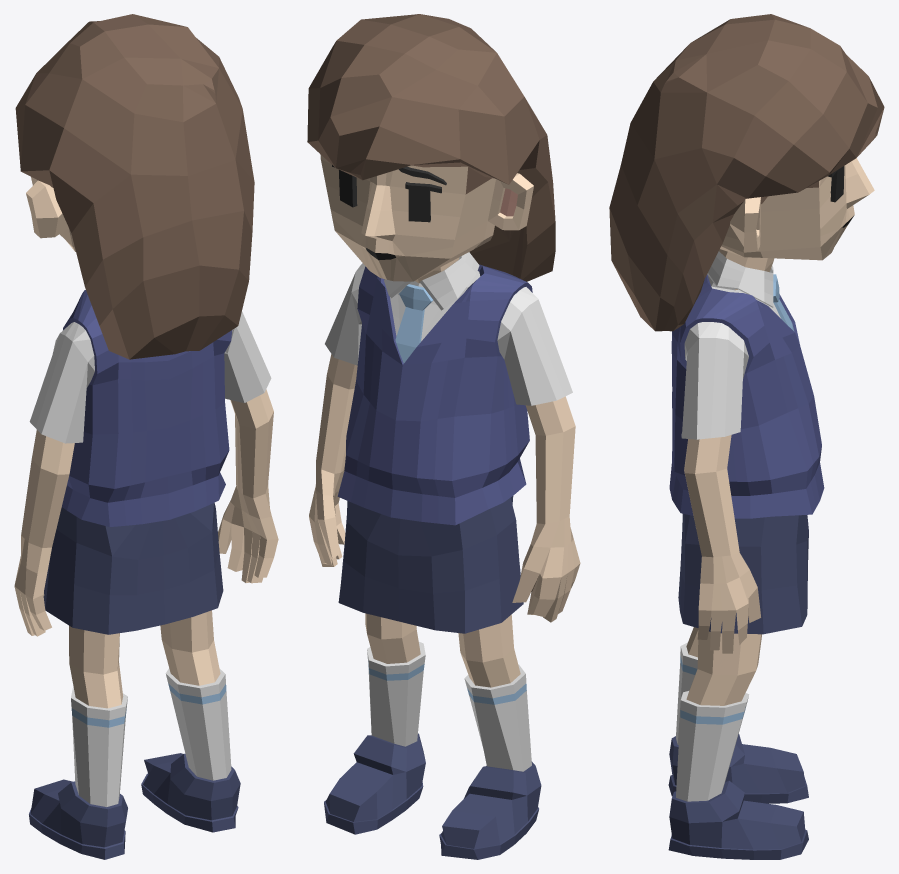
File: HumanFinishG (2).fbx
3 renders of one model, left to right at view 1: azimuth 30°, elevation 25°; view 2: azimuth 150°, elevation 25°; view 3: azimuth 270°, elevation 25°, orthographic. The views are drawn at different scales.
Parts seen in each view (by area): view 1: Human; view 2: Human; view 3: Human.
Part boxes in pixels (<box>): Human: <box>14,14,278,859</box>; Human: <box>307,14,580,859</box>; Human: <box>609,14,884,859</box>.
Bounding box in the file's own units: 133 × 399 × 126.
